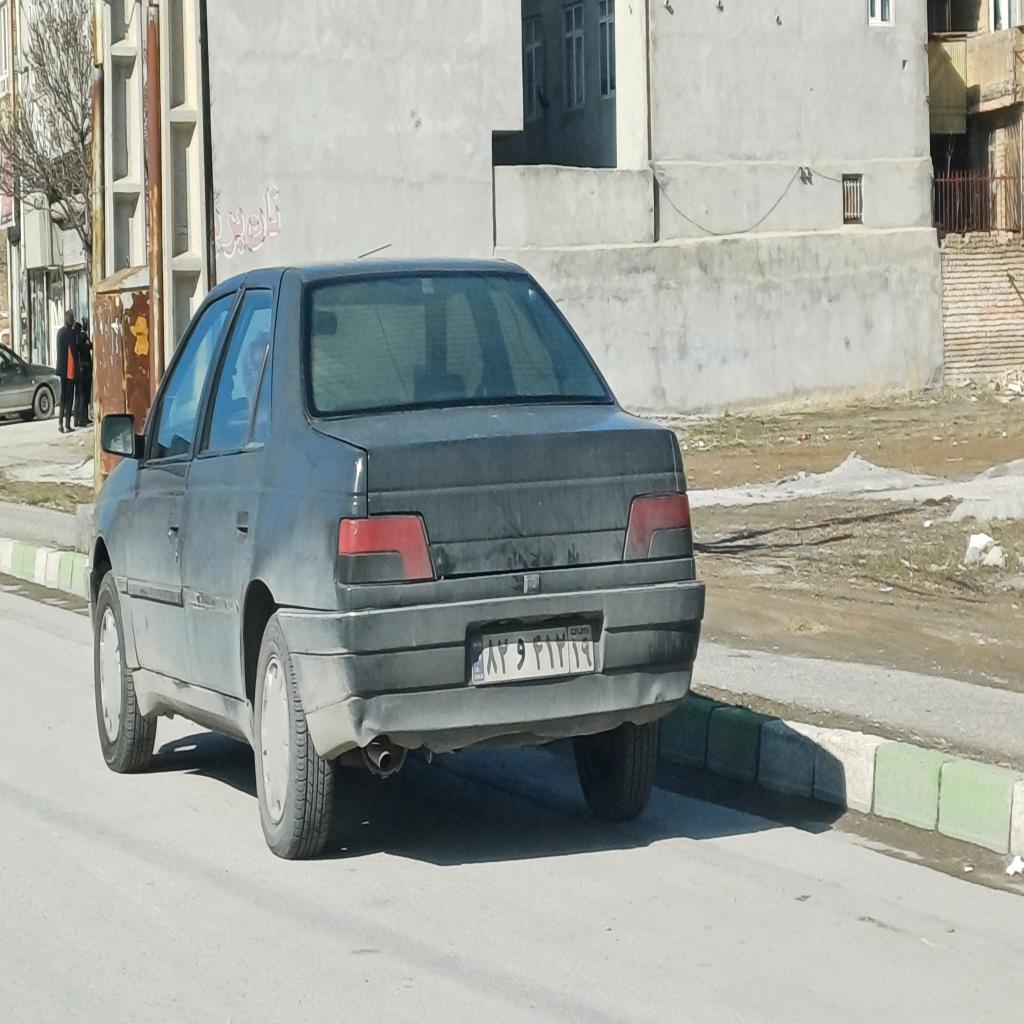Plates: (471, 622, 595, 682)
